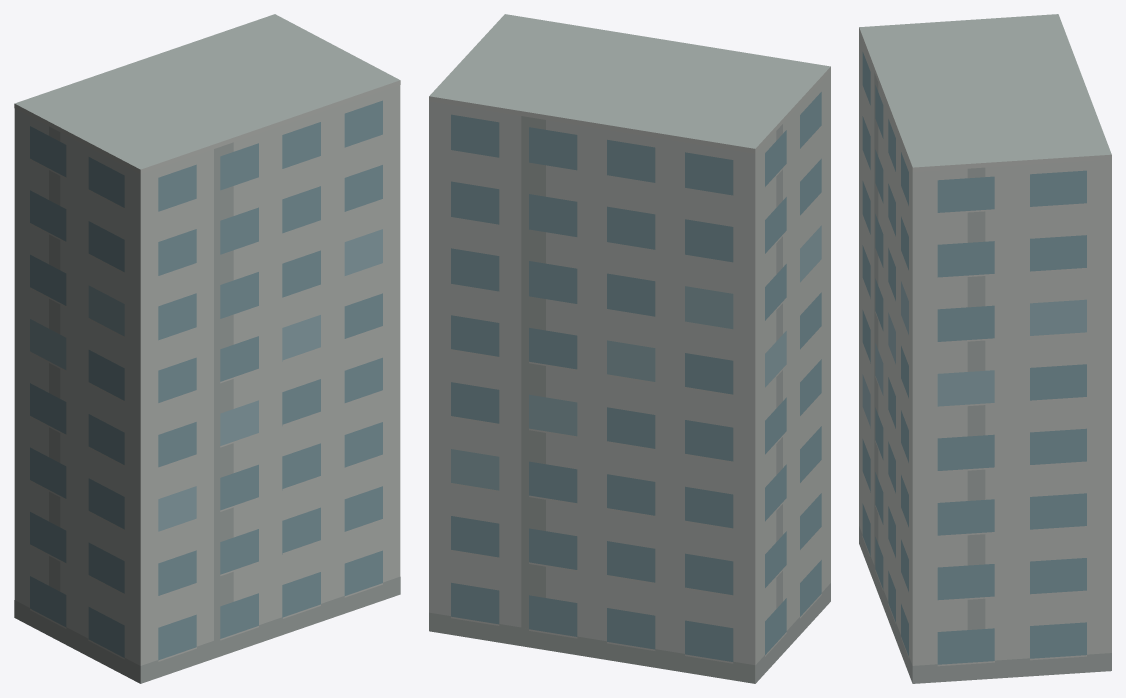
The model's file is survey-upis-32818997.glb.
3 renders of one model, left to right at view 1: azimuth 30°, elevation 25°; view 2: azimuth 150°, elevation 25°; view 3: azimuth 270°, elevation 25°, orthographic. The views are drawn at different scales.
Parts seen in each view (by area): view 1: survey-upis-32818997.tmp; view 2: survey-upis-32818997.tmp; view 3: survey-upis-32818997.tmp.
Boxes of the visible parts, <box> form: survey-upis-32818997.tmp: <box>14,14,400,683</box>; survey-upis-32818997.tmp: <box>429,14,830,683</box>; survey-upis-32818997.tmp: <box>859,14,1111,683</box>.
Size of the model in its own units: 17.1 by 26.8 by 11.9.
